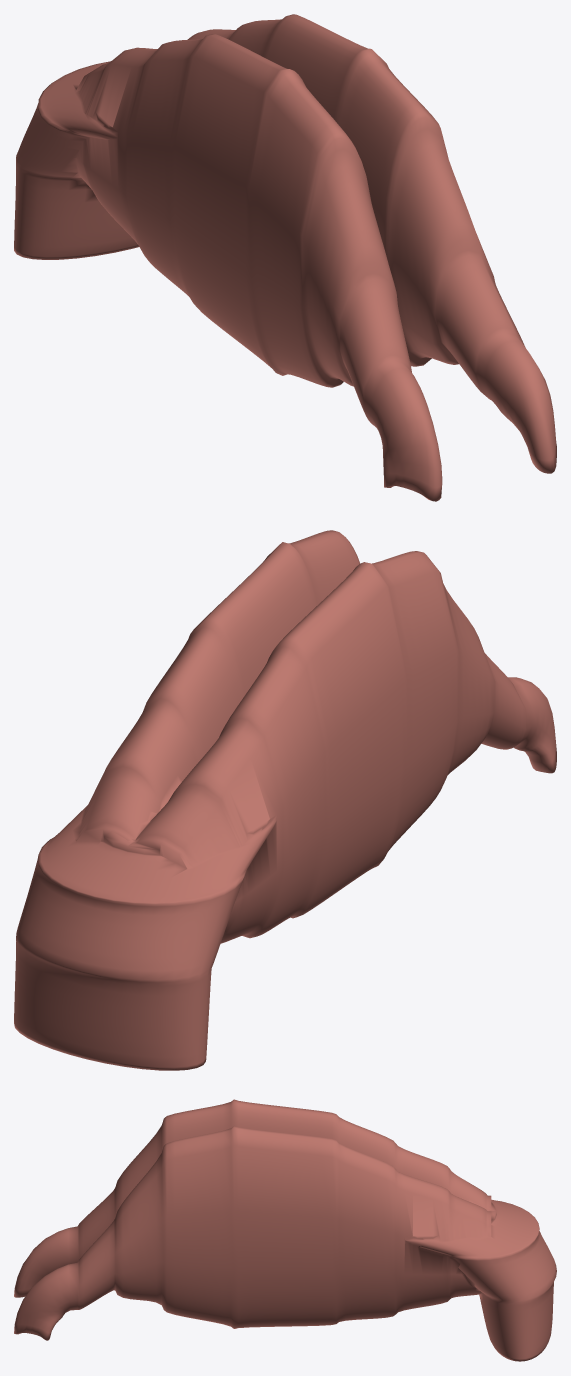
File: nasal-cavity.glb
3 renders of one model, top to bottom at view 1: azimuth 30°, elevation 25°; view 2: azimuth 150°, elevation 25°; view 3: azimuth 270°, elevation 25°, orthographic. The views are drawn at different scales.
Visible parts, largest first — view 1: NASAL_MUCOSA; view 2: NASAL_MUCOSA; view 3: NASAL_MUCOSA.
Boxes of the visible parts, x1,y1,x2,y2 form: NASAL_MUCOSA: (14,14,556,501); NASAL_MUCOSA: (14,530,556,1070); NASAL_MUCOSA: (14,1099,556,1361).
Size of the model in its own units: 0.0263 by 0.0446 by 0.1006.
